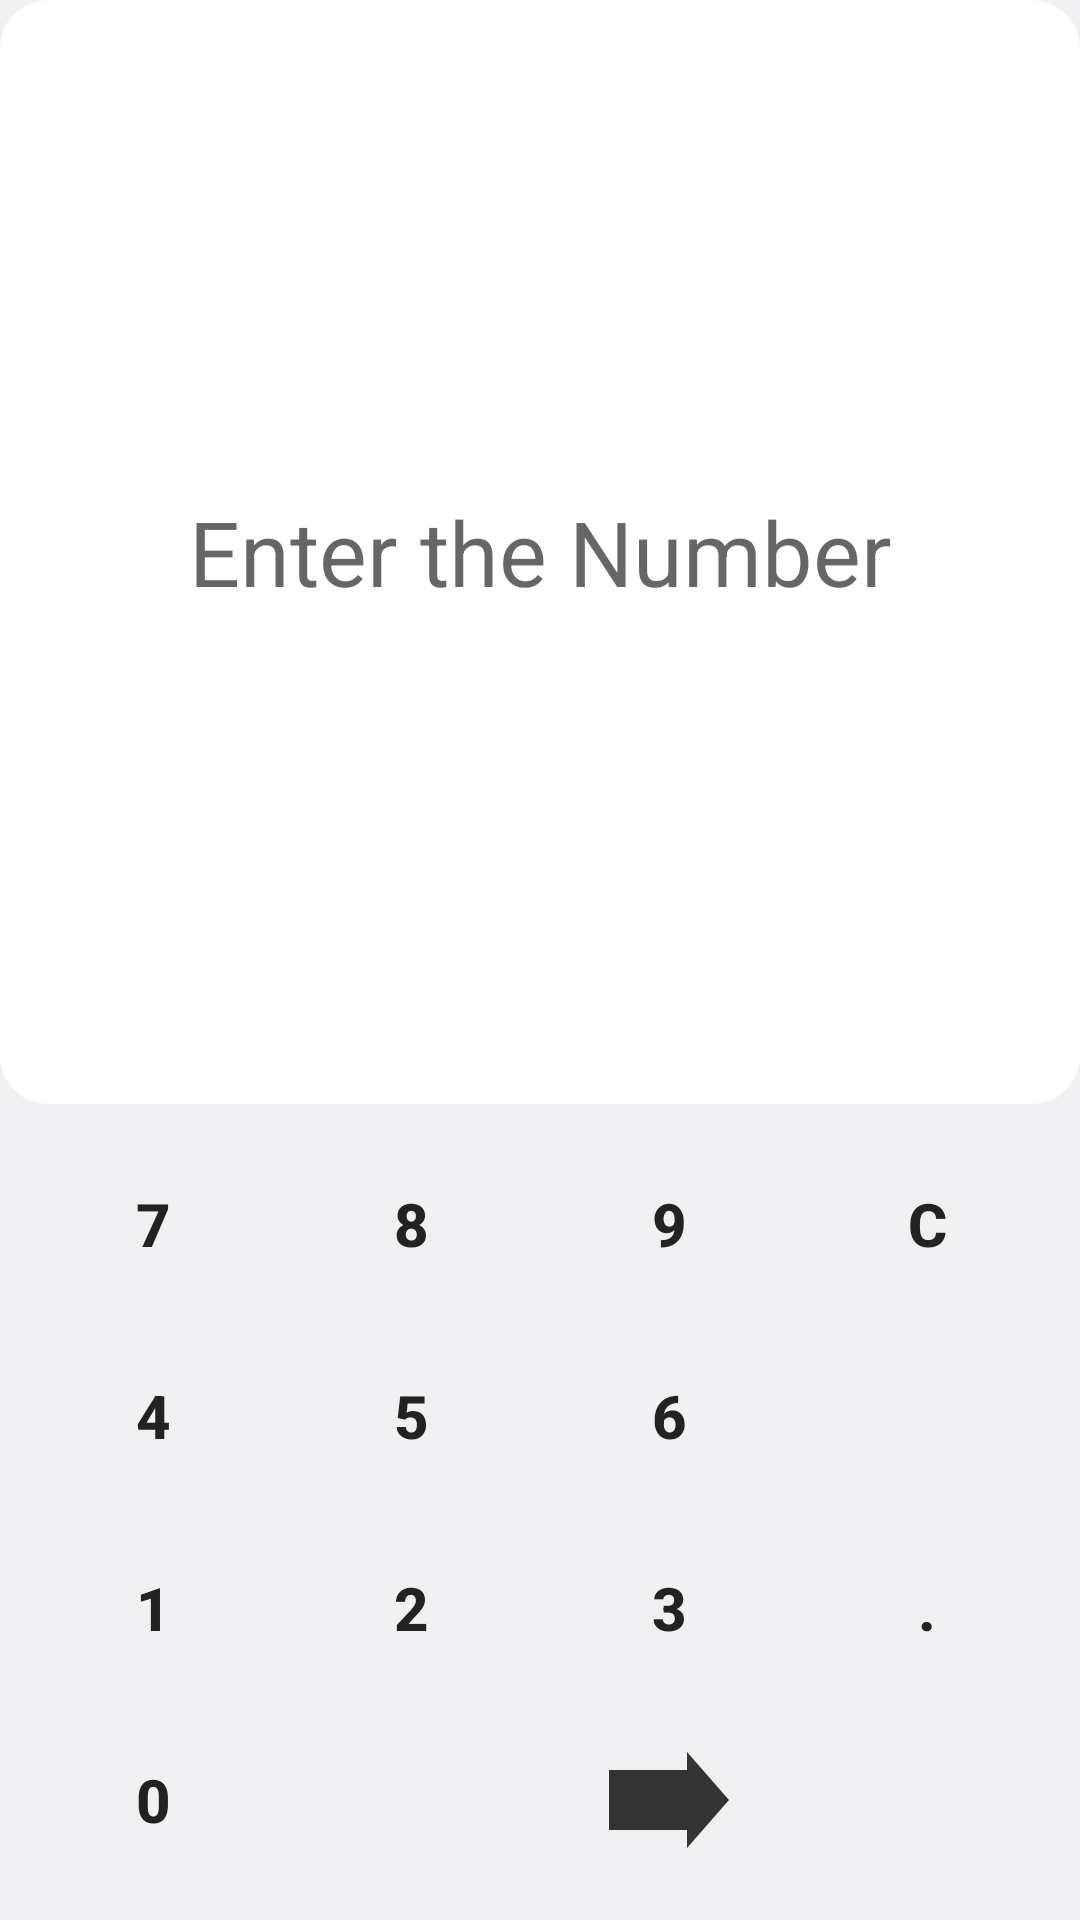

Locate icon controls on the screen. Image size 1080×1920, boxes as (x1, y1, x2, y2).
Send: (609, 1752, 729, 1848)
